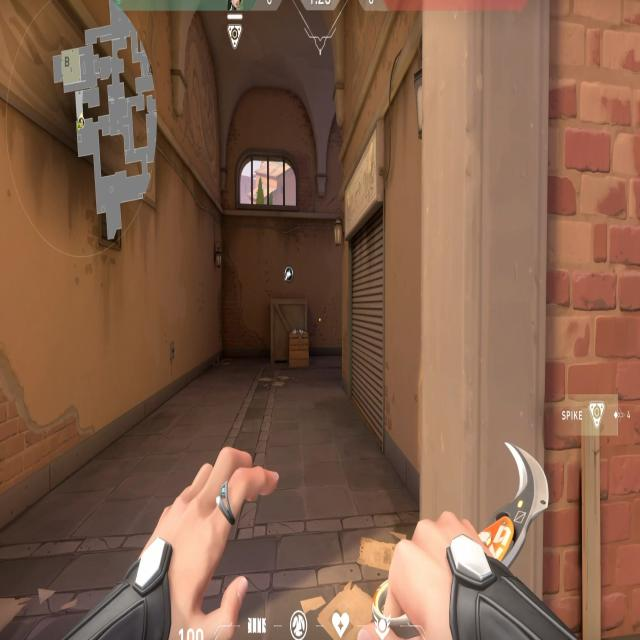B_Main_Wallbang: (268, 263, 312, 372)
Throwables: (232, 148, 304, 217)
